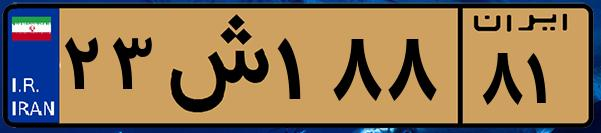1: (270, 28, 330, 110), (525, 38, 570, 115)
2: (57, 26, 110, 100)
3: (110, 28, 158, 98)
8: (385, 28, 445, 110), (330, 28, 385, 110), (475, 38, 525, 113)
ش: (158, 12, 270, 120)
